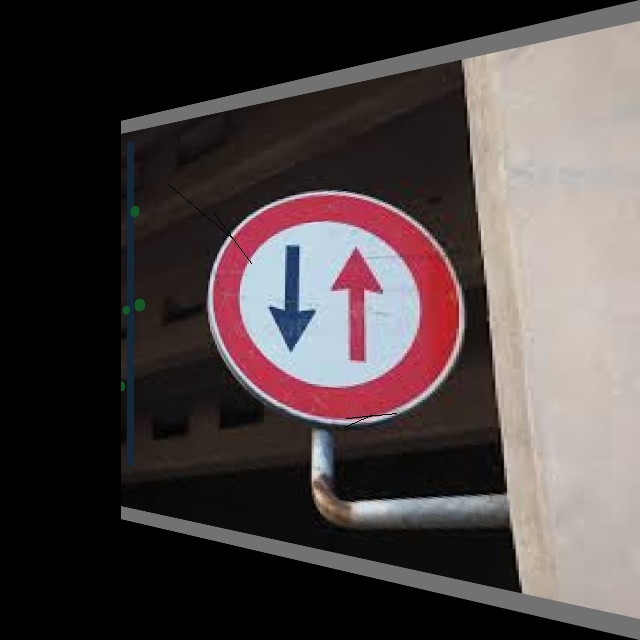Mandatory_Two_Way_Traffic: (209, 172, 482, 430)
